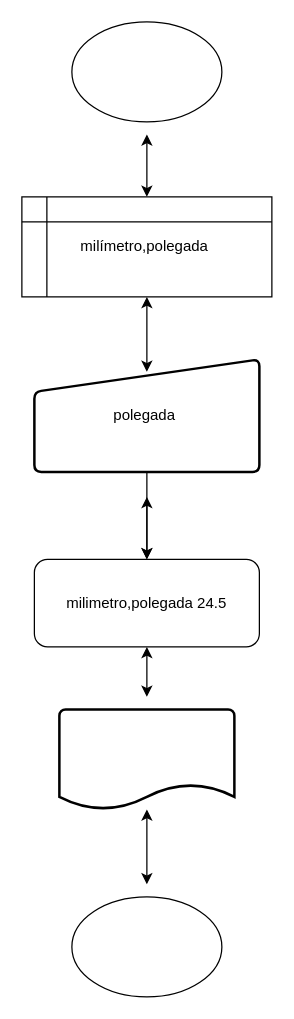
The diagram is 294 pixels wide and 1019 high, and some of its shapes have lost their labels. Each missing label, with the box of its shape:
end: (71, 896, 222, 997)
star: (71, 21, 222, 122)
